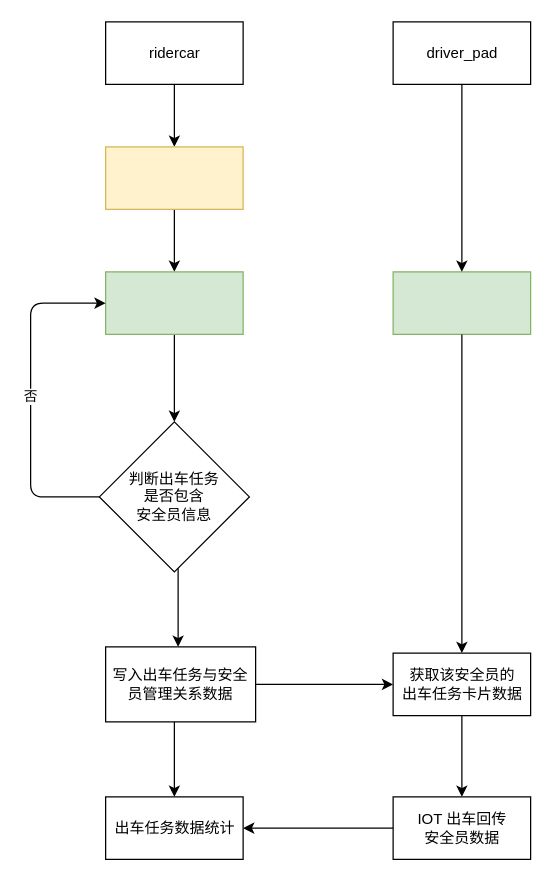
This 553x881 diagram has some shape labels left out. The shapes that lost their labels are listed below. From the top down, each one's centre as x and y in pixels, then its label:
At point 173,177: "创建出车任务 (分派车)".
At point 173,302: "调度员分派安全员 (运力派人)".
At point 461,302: "driver_pad 登录 获取安全员信息".
